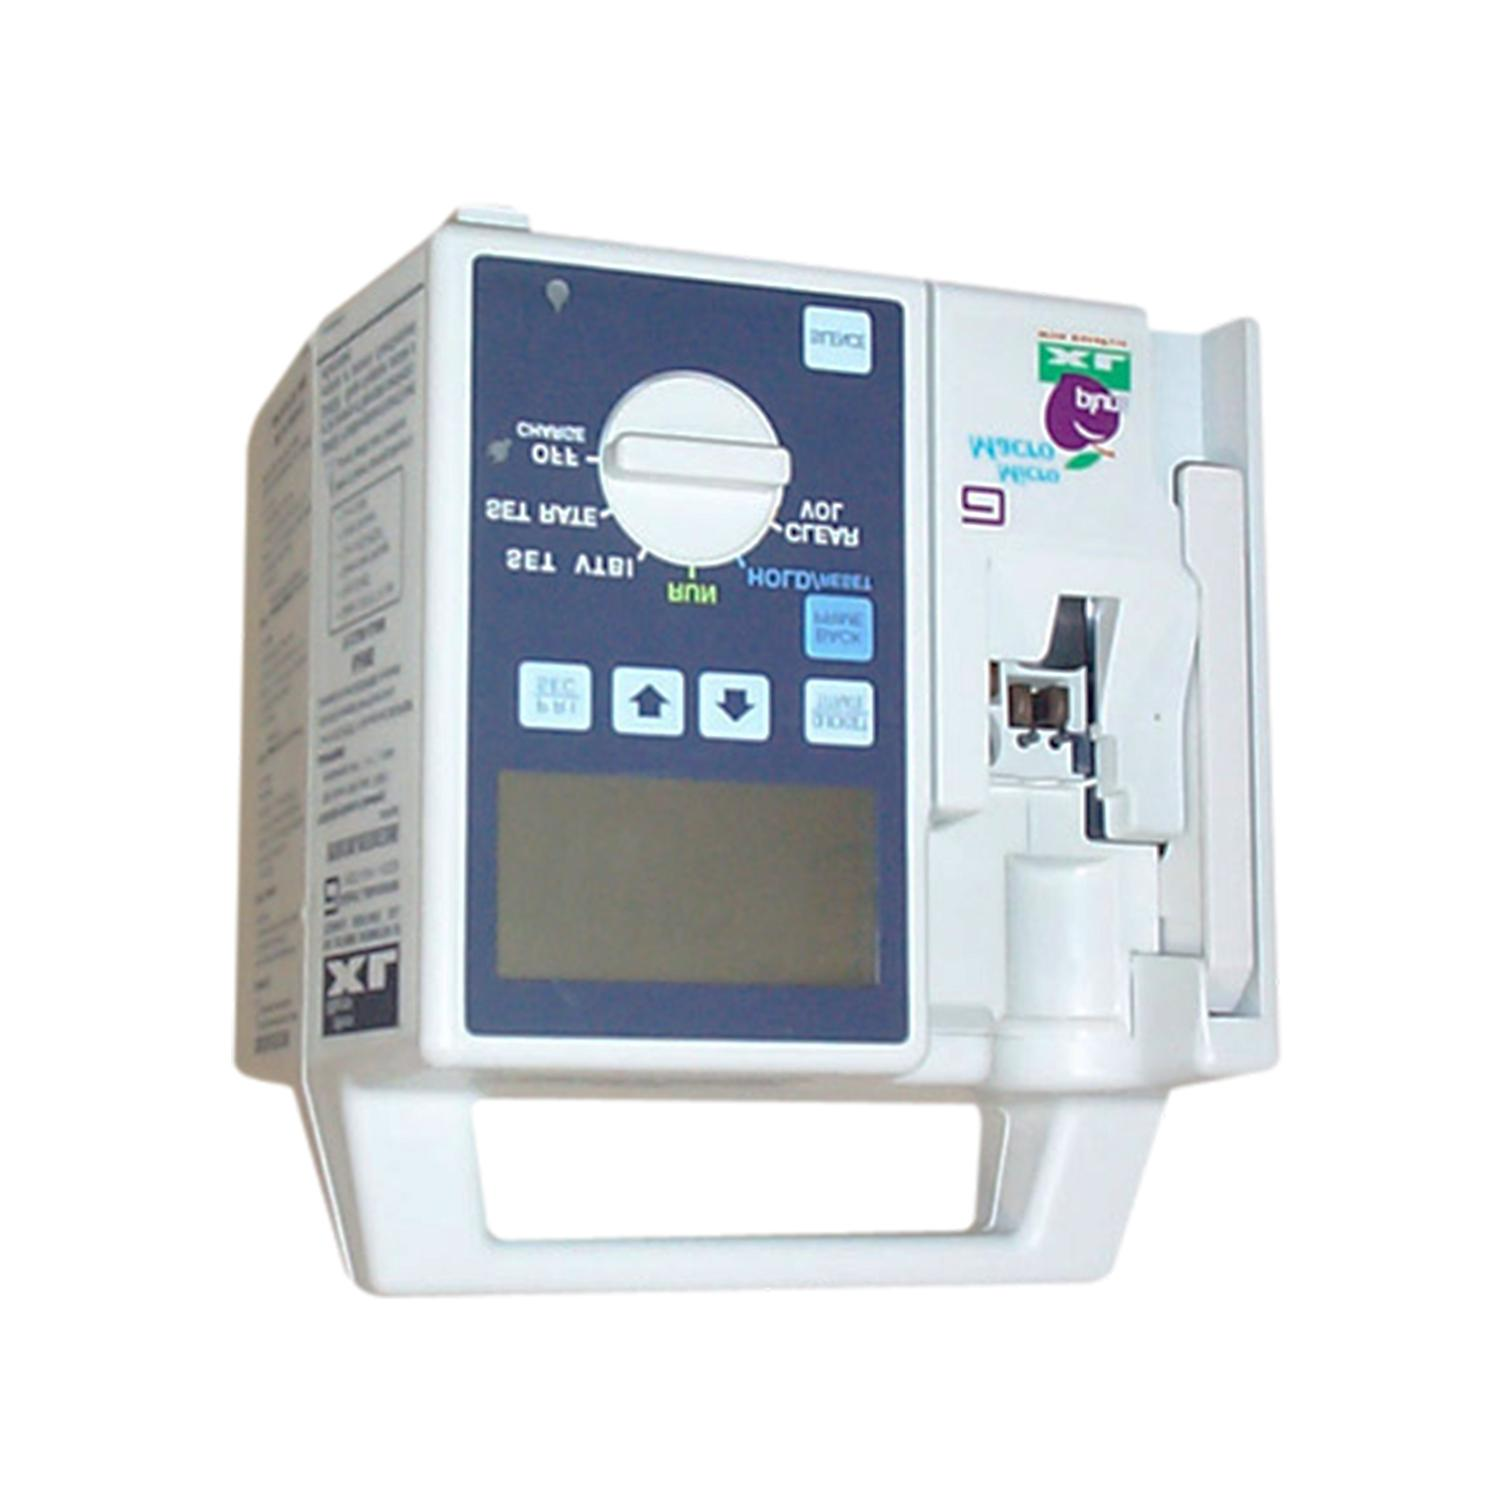plumxl1: (228, 194, 1304, 1301)
